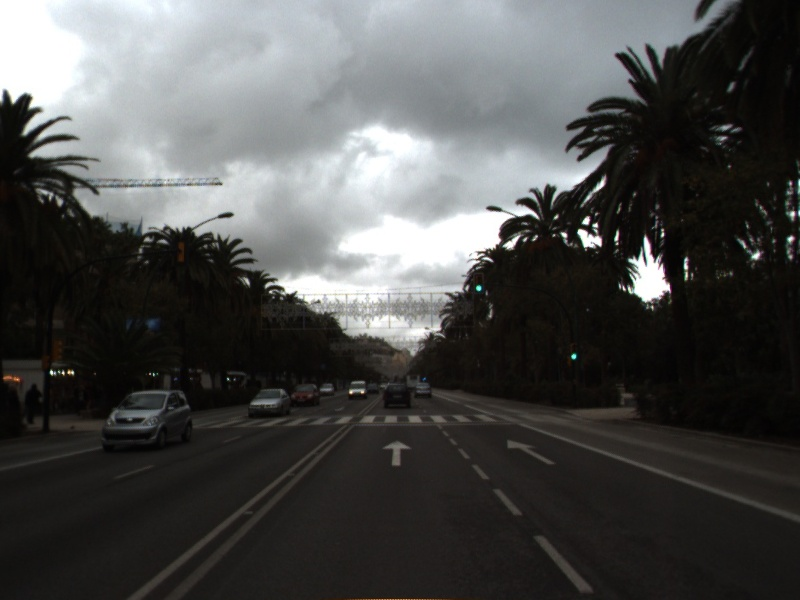STRAIGHT: (505, 437, 559, 467), (380, 438, 415, 468)
